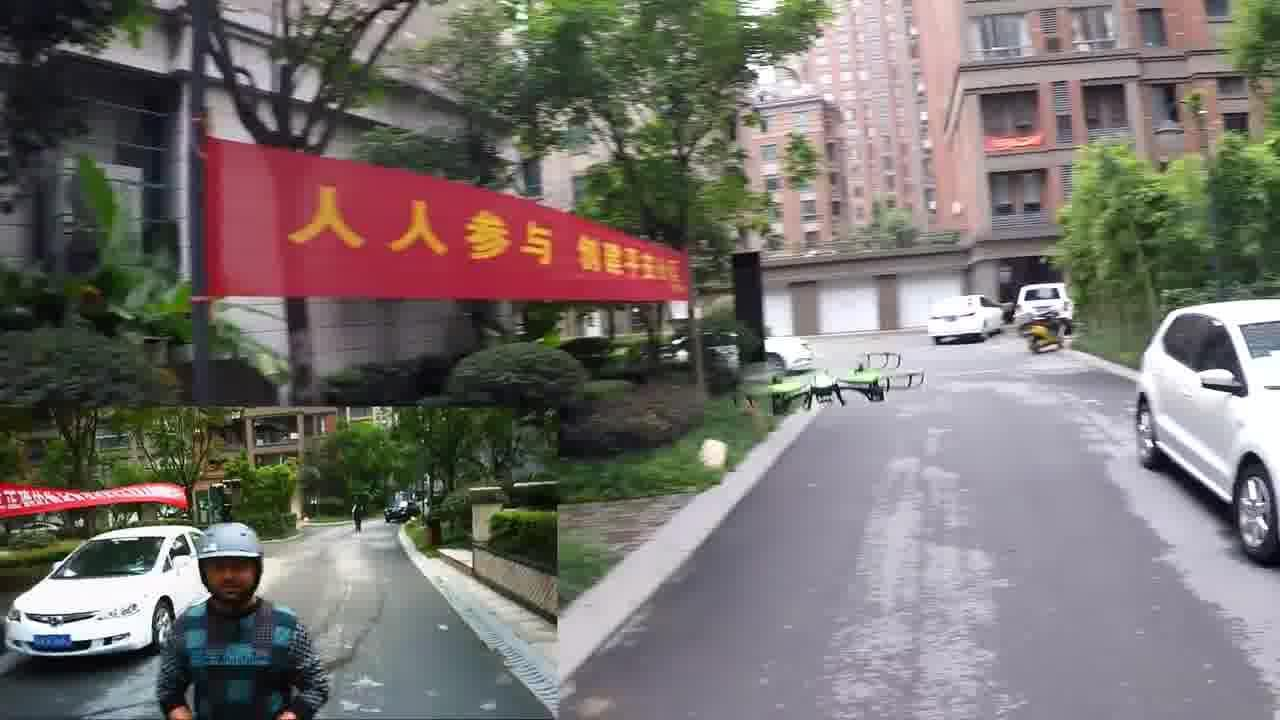drone: (748, 330, 935, 413)
